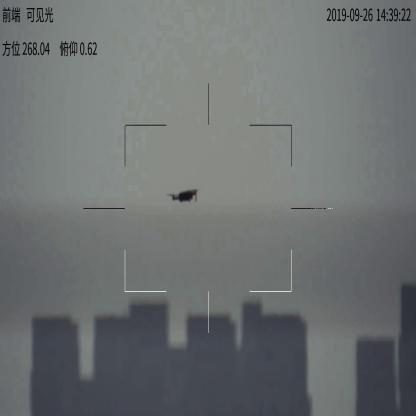uav: (163, 185, 196, 207)
